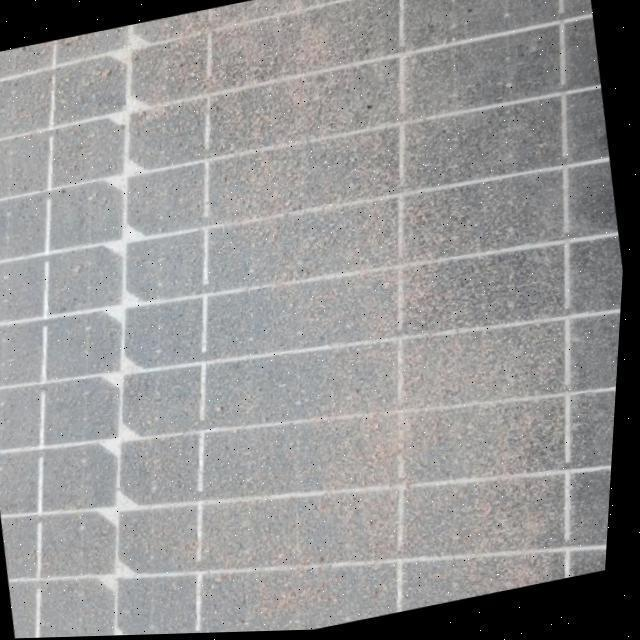Surface Contaminant: (8, 0, 620, 637)
